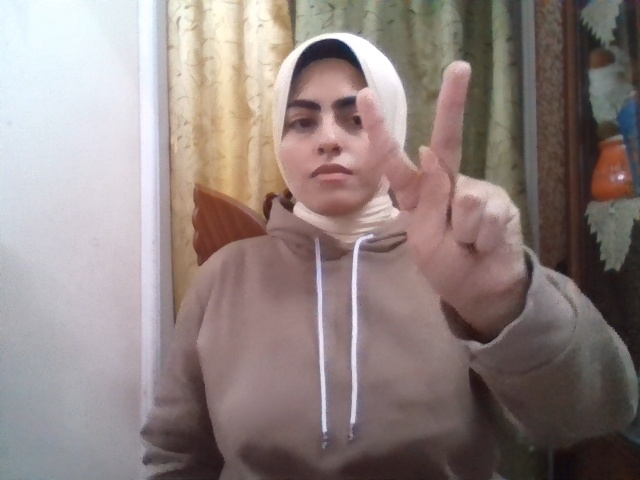K: (356, 61, 526, 309)
